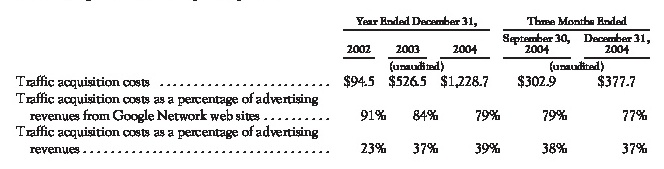table: (0, 0, 664, 169)
